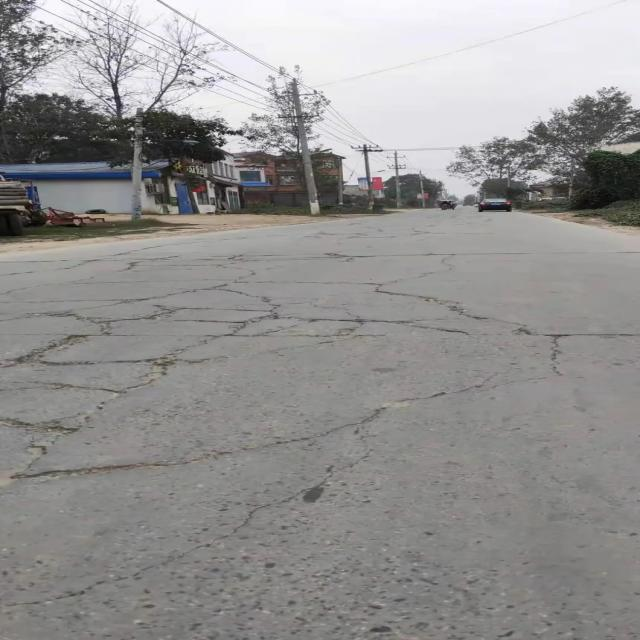Pothole: (5, 301, 538, 480)
